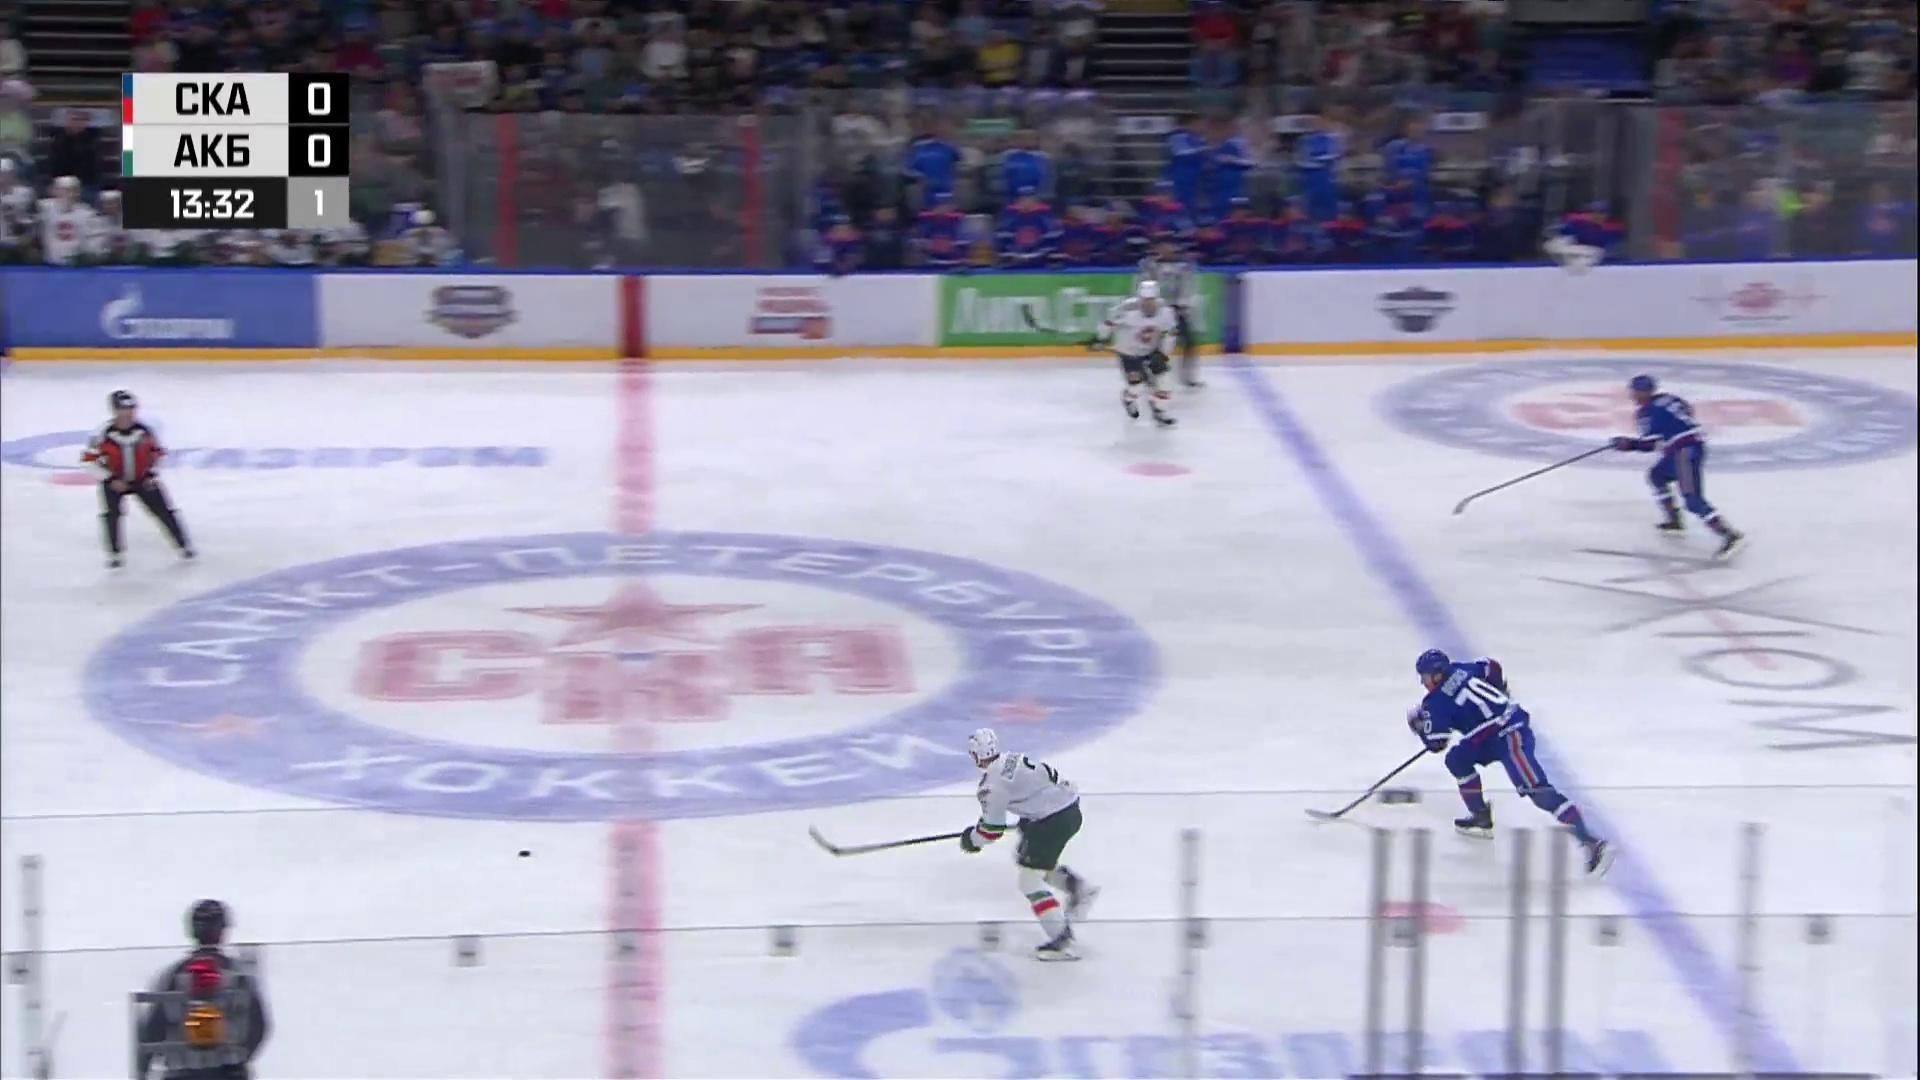ball: (517, 849, 531, 857)
